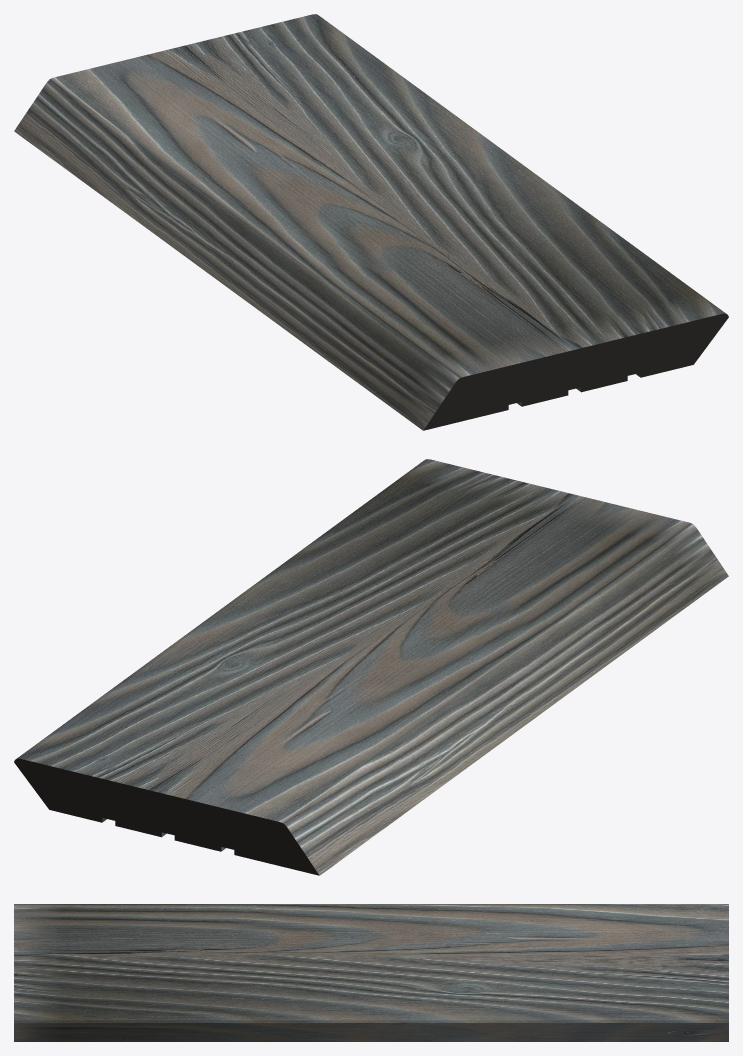
File: larch-facade-rhombus-silver.glb
3 renders of one model, top to bottom at view 1: azimuth 30°, elevation 25°; view 2: azimuth 150°, elevation 25°; view 3: azimuth 270°, elevation 25°, orthographic. The views are drawn at different scales.
Parts seen in each view (by area): view 1: Rombas; view 2: Rombas; view 3: Rombas.
Boxes of the visible parts, x1,y1,x2,y2 form: Rombas: [14, 14, 728, 430]; Rombas: [14, 459, 728, 875]; Rombas: [14, 904, 728, 1041].
Bounding box in the file's own units: 0.0723 × 0.00995 × 0.1675.
Materials: 3 (1 with a texture image).
